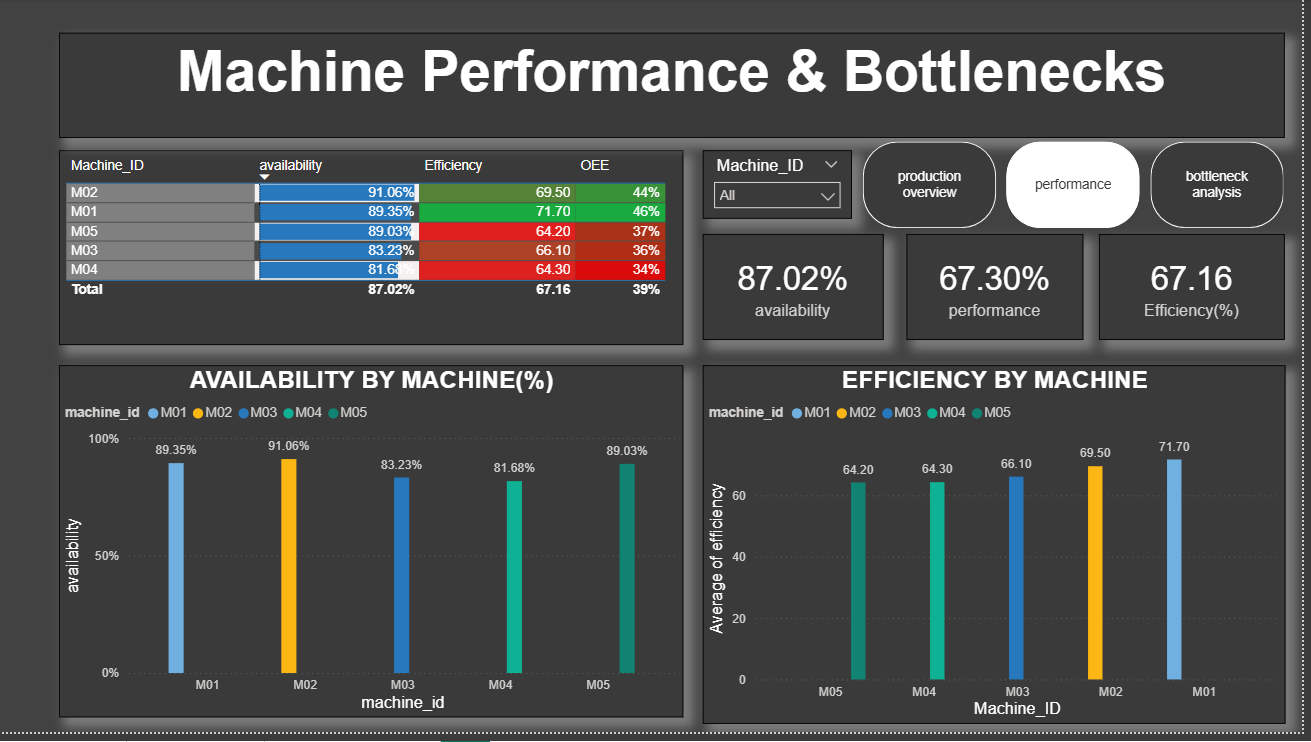

This screenshot's page, from the dashboard's own definition file:
{"tool":"powerbi","page":{"name":"performance","canvas":[1280,720],"ordinal":1},"visuals":[{"type":"clusteredColumnChart","title":"AVAILABILITY BY MACHINE(%)","fields":{"Category":["mdb kpi_oee_by_machine.machine_id"],"Y":["mdb production_re.availability"],"Series":["mdb kpi_oee_by_machine.machine_id"]},"box":[59.1,359.7,612.5,345.8],"z":0},{"type":"lineClusteredColumnComboChart","title":"EFFICIENCY BY MACHINE","fields":{"Category":["mdb kpi_energy_by_machine_operation.Machine_ID"],"Y":["Avg(mdb production_efficiency.efficiency)"],"Series":["mdb production_efficiency.machine_id"]},"box":[690.4,359.7,572.2,352.1],"z":1000},{"type":"tableEx","fields":{"Values":["mdb production_re.Machine_ID","mdb production_re.availability","Avg(mdb production_efficiency.efficiency)","mdb production_re.oee"]},"box":[59.1,148.4,612.5,191.2],"z":2000},{"type":"textbox","box":[59.3,32.7,1203.2,102.9],"z":3000},{"type":"slicer","fields":{"Values":["mdb kpi_energy_by_machine_operation.Machine_ID"]},"box":[690.8,148.5,146,67.5],"z":4000},{"type":"card","fields":{"Values":["mdb production_re.availability"]},"box":[690.4,230.1,177.3,104.4],"z":5000},{"type":"card","fields":{"Values":["mdb production_efficiency.performance"]},"box":[890.4,230.1,173.6,104.4],"z":6000},{"type":"card","fields":{"Values":["Avg(mdb production_efficiency.efficiency)"]},"box":[1080.3,230.1,182.4,104.4],"z":7000},{"type":"pageNavigator","box":[847.9,139.9,414.7,85.9],"z":8000}]}

Visuals, with their boxes in screenshot pixels (x1, y1, x2, y2), scaled from the page's 1280x720 canvas onto the 1311x742 screenshot:
"AVAILABILITY BY MACHINE(%)" clusteredColumnChart: <region>61, 371, 688, 727</region>
"EFFICIENCY BY MACHINE" lineClusteredColumnComboChart: <region>707, 371, 1293, 734</region>
tableEx - mdb production_re.Machine_ID x mdb production_re.availability: <region>61, 153, 688, 350</region>
textbox: <region>61, 34, 1293, 140</region>
slicer - mdb kpi_energy_by_machine_operation.Machine_ID: <region>708, 153, 857, 223</region>
card - mdb production_re.availability: <region>707, 237, 889, 345</region>
card - mdb production_efficiency.performance: <region>912, 237, 1090, 345</region>
card - Avg(mdb production_efficiency.efficiency): <region>1106, 237, 1293, 345</region>
pageNavigator: <region>868, 144, 1293, 233</region>
